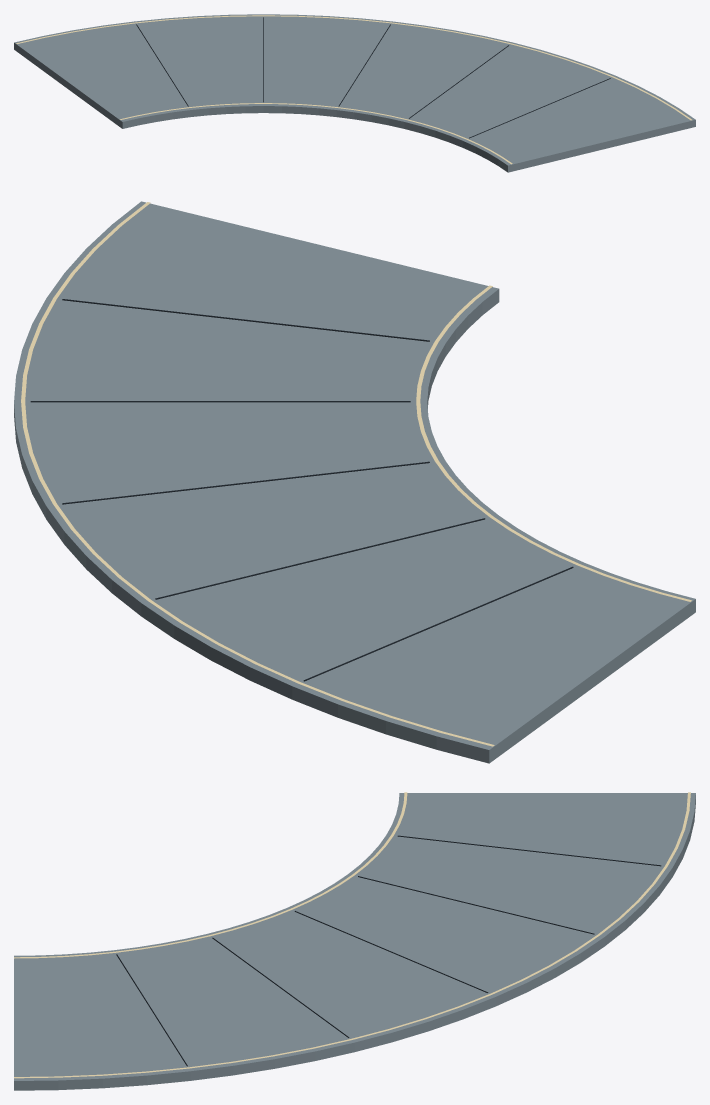
The model's file is nyanisyarud-camera-road-curve-left.glb.
3 renders of one model, top to bottom at view 1: azimuth 30°, elevation 25°; view 2: azimuth 150°, elevation 25°; view 3: azimuth 270°, elevation 25°, orthographic. The views are drawn at different scales.
Parts seen in each view (by area): view 1: CurvedDeck, road-curve-left_cream, road-curve-left_black; view 2: CurvedDeck, road-curve-left_cream, road-curve-left_black; view 3: CurvedDeck, road-curve-left_cream, road-curve-left_black.
Boxes of the visible parts, x1,y1,x2,y2 form: CurvedDeck: (14, 14, 695, 172); road-curve-left_cream: (16, 15, 691, 164); road-curve-left_black: (136, 17, 610, 138); CurvedDeck: (14, 201, 695, 763); road-curve-left_cream: (21, 202, 691, 746); road-curve-left_black: (30, 299, 573, 681); CurvedDeck: (14, 793, 695, 1090); road-curve-left_cream: (14, 792, 690, 1078); road-curve-left_black: (116, 835, 661, 1066).
Bounding box in the file's own units: 23 × 0.3891 × 23.
